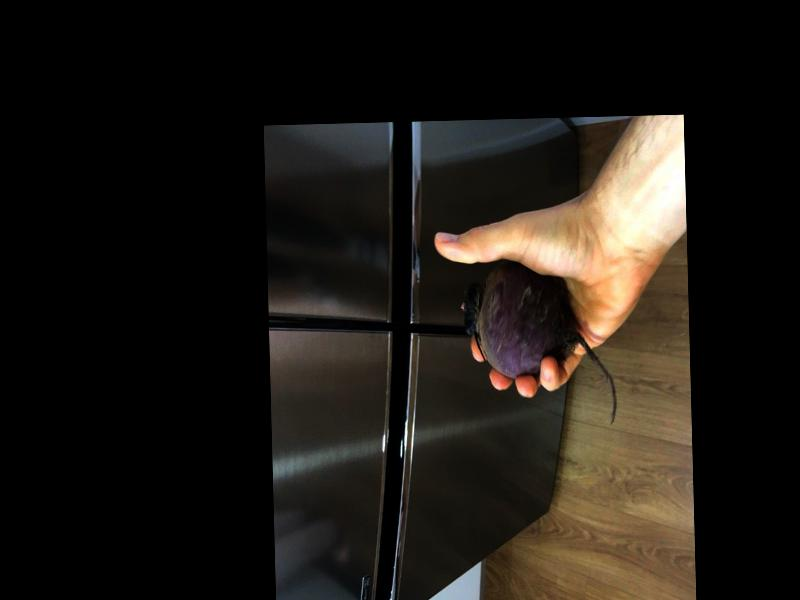Beet: (460, 258, 615, 428)
